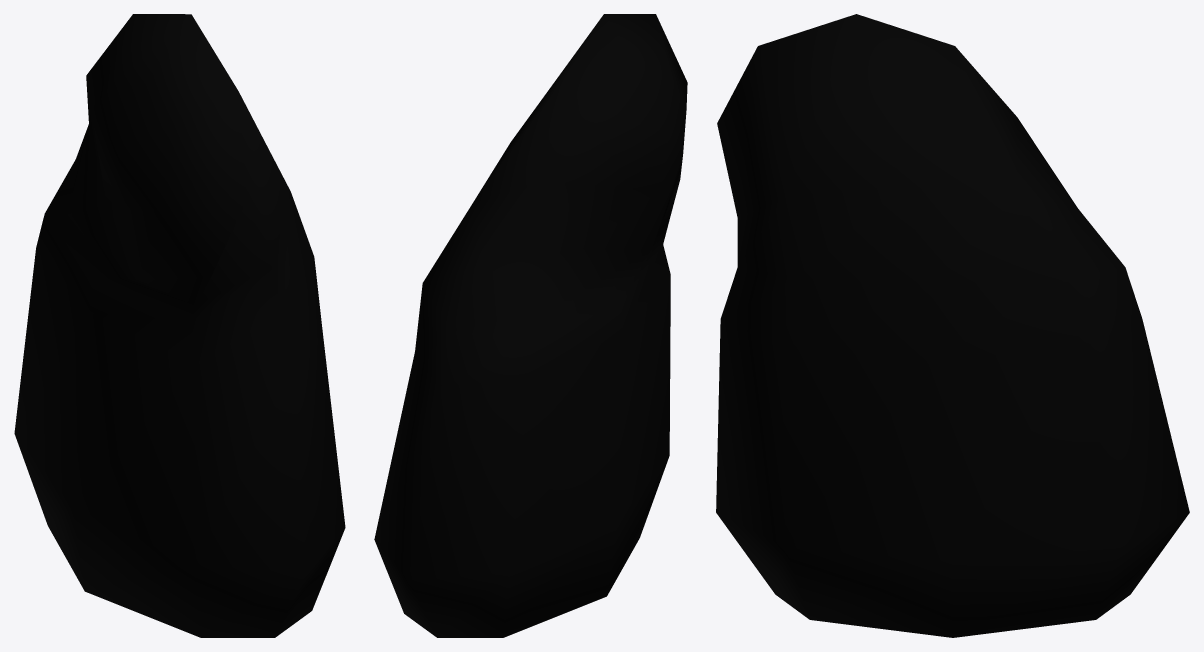
Rendered from Char_CR_Hand1.FBX.
The picture shows the model from 3 angles, left to right: view 1: azimuth 30°, elevation 25°; view 2: azimuth 150°, elevation 25°; view 3: azimuth 270°, elevation 25°; orthographic projection. The views are drawn at different scales.
Visible parts, largest first — view 1: Cylinder003; view 2: Cylinder003; view 3: Cylinder003.
Boxes of the visible parts, x1=… form: Cylinder003: x1=14, y1=14, x2=345, y2=637; Cylinder003: x1=374, y1=14, x2=687, y2=637; Cylinder003: x1=716, y1=14, x2=1189, y2=637.
Size of the model in its own units: 9.34 by 25.67 by 18.55.
